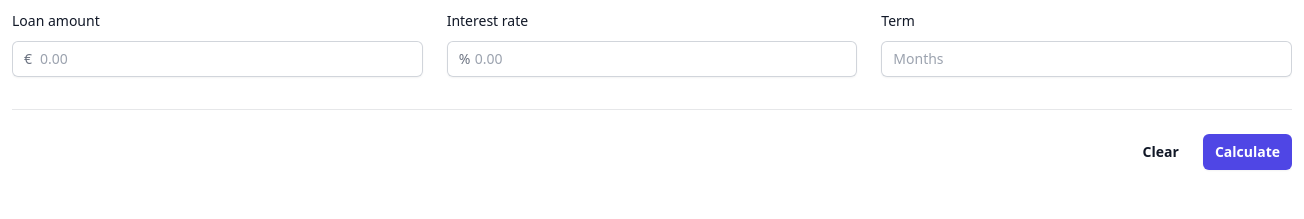
Test: LoanCalculator Component › successful form submission
Type "1000" into the number field labelled "Loan amount".
click(217, 59); type("1000")  # box [12, 41, 423, 77]
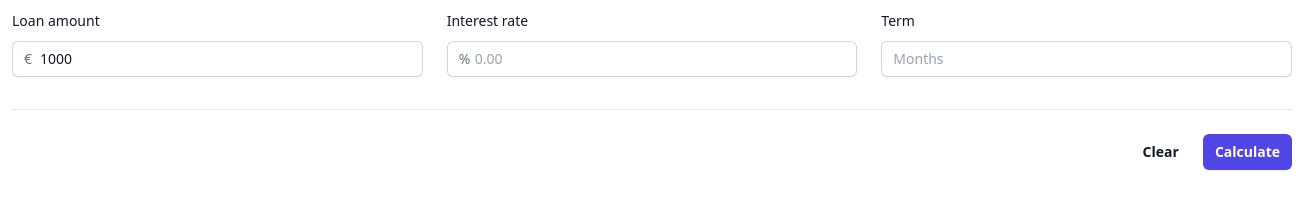
Type "5" into the number field labelled "Interest rate".
click(652, 59); type("5")  # box [447, 41, 857, 77]
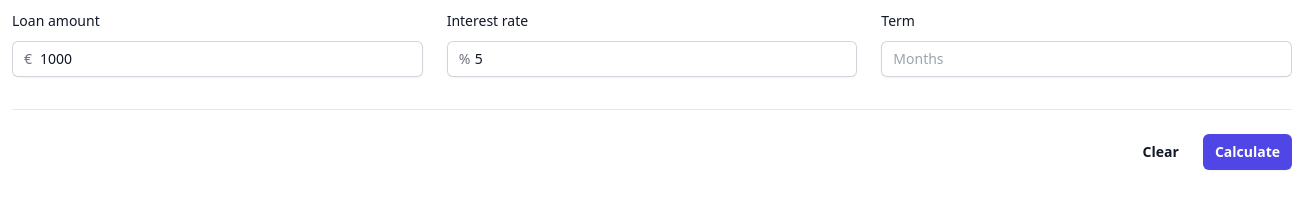
Type "12" into the number field labelled "Term".
click(1087, 59); type("12")  # box [881, 41, 1292, 77]
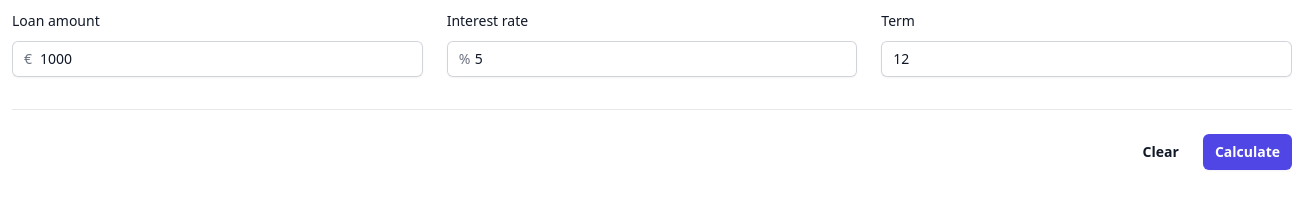
Submit the form from the button "Calculate", box [1203, 134, 1292, 170]
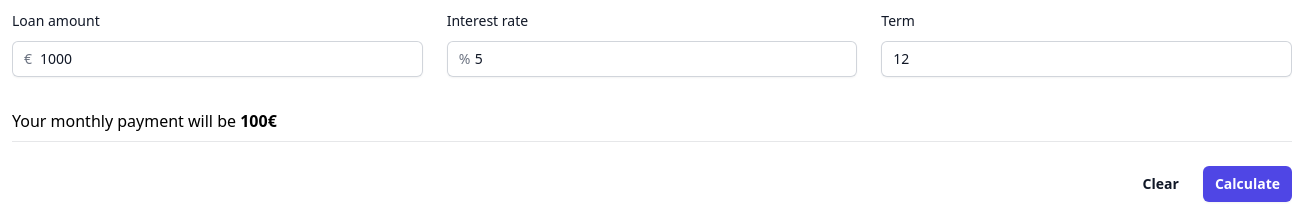
Expected: the text "Your monthly payment will be 100€" is shown, [12, 110, 277, 132]
Expected: the text "100€" is shown, [240, 110, 277, 132]
